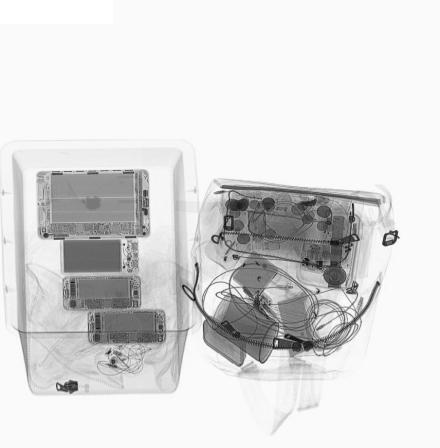Powerbank: (59, 239, 140, 276)
